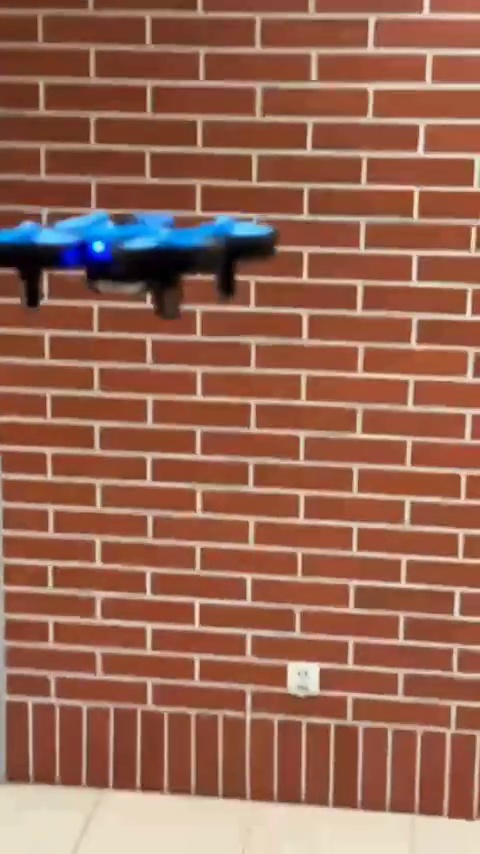drone: (0, 207, 277, 319)
